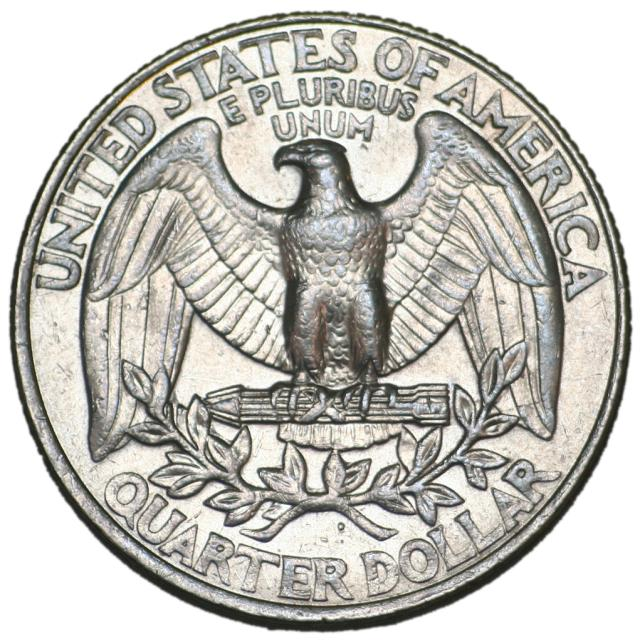Coin: (5, 4, 634, 634)
